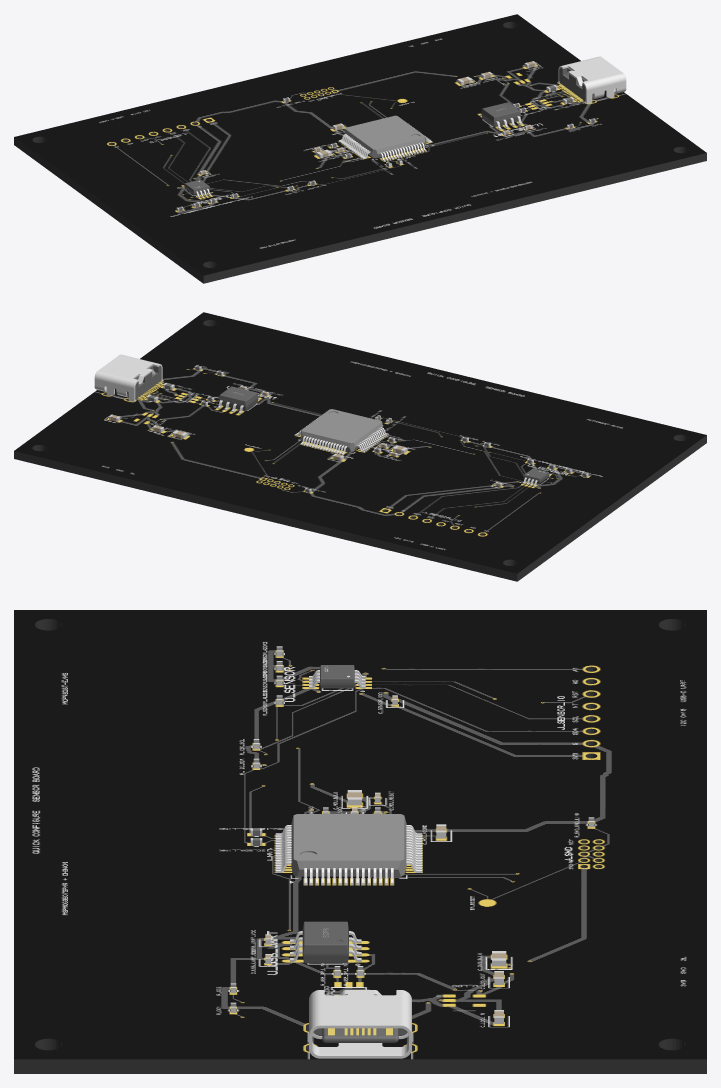
3 renders of one model, top to bottom at view 1: azimuth 30°, elevation 25°; view 2: azimuth 150°, elevation 25°; view 3: azimuth 270°, elevation 25°, orthographic. The views are drawn at different scales.
Parts seen in each view (by area): view 1: Box0, U_MAIN, J_USB, U_USB_UART; view 2: Box0, U_MAIN, J_USB, U_USB_UART; view 3: Box0, U_MAIN, J_USB, U_USB_UART, U_SENSOR.
Boxes of the visible parts, left/top/right/bottom form: Box0: left=14, top=14, right=706, bottom=283; U_MAIN: left=338, top=115, right=432, bottom=161; J_USB: left=558, top=56, right=626, bottom=103; U_USB_UART: left=480, top=102, right=522, bottom=129; Box0: left=14, top=312, right=706, bottom=581; U_MAIN: left=294, top=409, right=388, bottom=454; J_USB: left=94, top=354, right=162, bottom=401; U_USB_UART: left=217, top=386, right=259, bottom=413; Box0: left=14, top=610, right=706, bottom=1073; U_MAIN: left=275, top=814, right=422, bottom=885; J_USB: left=309, top=990, right=411, bottom=1058; U_USB_UART: left=290, top=921, right=361, bottom=963; U_SENSOR: left=309, top=665, right=365, bottom=688.
Size of the model in its own units: 92.04 by 4.65 by 60.
16 materials, 2 textured.
